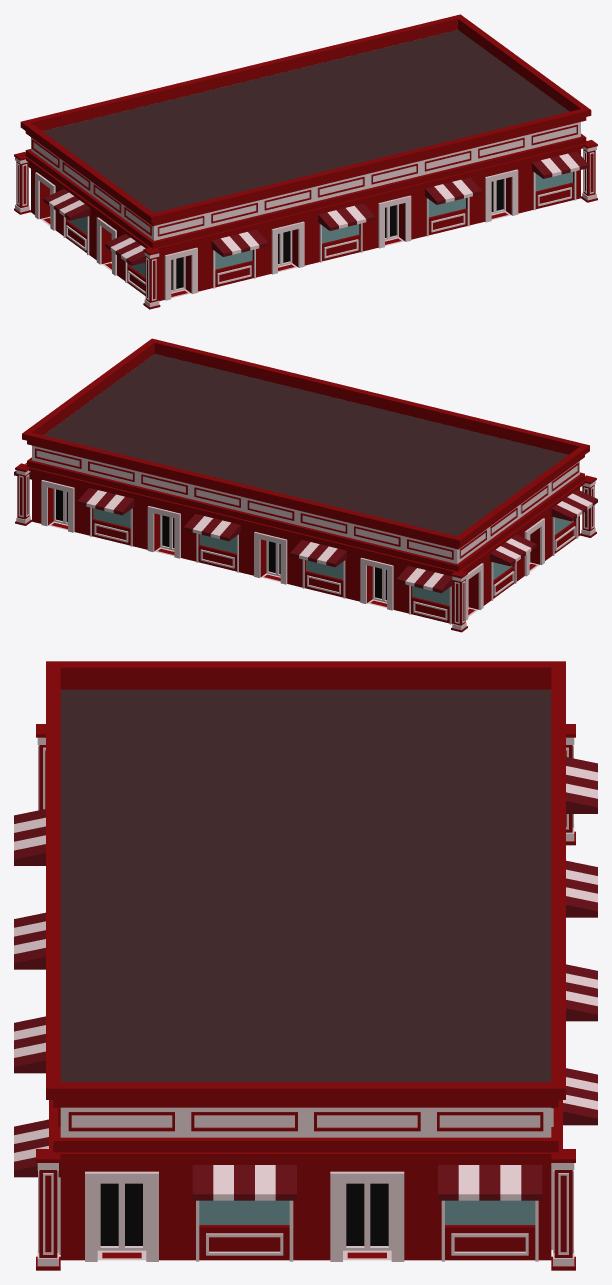
3 views of the same model, one above another, from view 1: azimuth 30°, elevation 25°; view 2: azimuth 150°, elevation 25°; view 3: azimuth 270°, elevation 25° (orthographic). The views are drawn at different scales.
Parts seen in each view (by area): view 1: Procedural Building; view 2: Procedural Building; view 3: Procedural Building.
Part boxes in pixels (x1,y1,x2,y2): Procedural Building: (14,14,597,309); Procedural Building: (14,338,597,632); Procedural Building: (14,661,597,1270).
Bounding box in the file's own units: 876 × 160 × 476.
